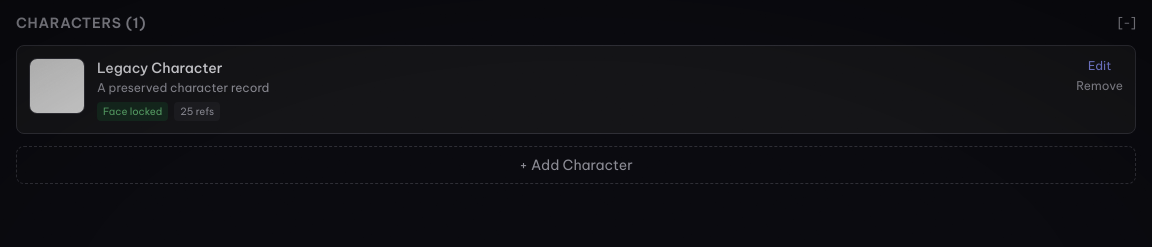
Test: CharacterPanel -- truthful character mutations › surfaces a rejected delete and does not refresh
Click the button "Remove". click: (1100, 86)
box: [1076,78,1123,94]
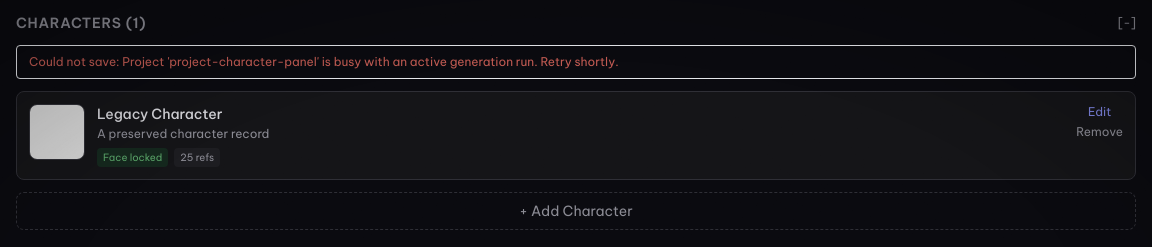
expect the message shows "is busy with an active generation run": met, box [122,54,619,69]
